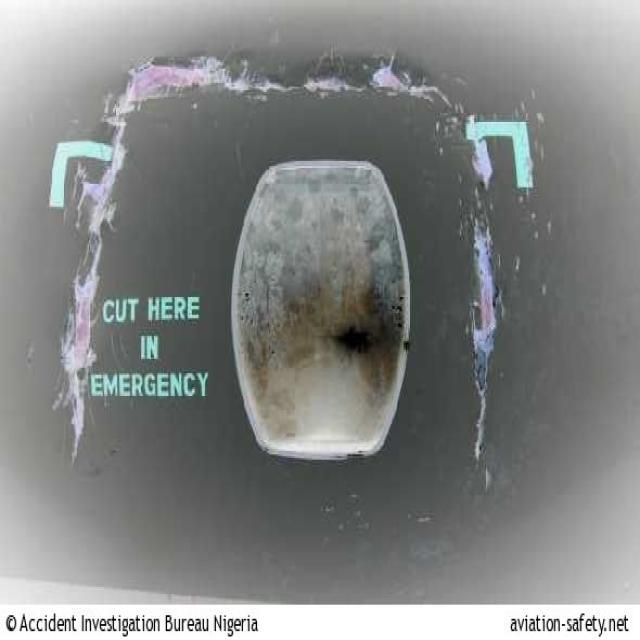crack: (52, 118, 134, 468), (116, 60, 464, 109), (471, 221, 499, 472), (473, 144, 495, 190)
